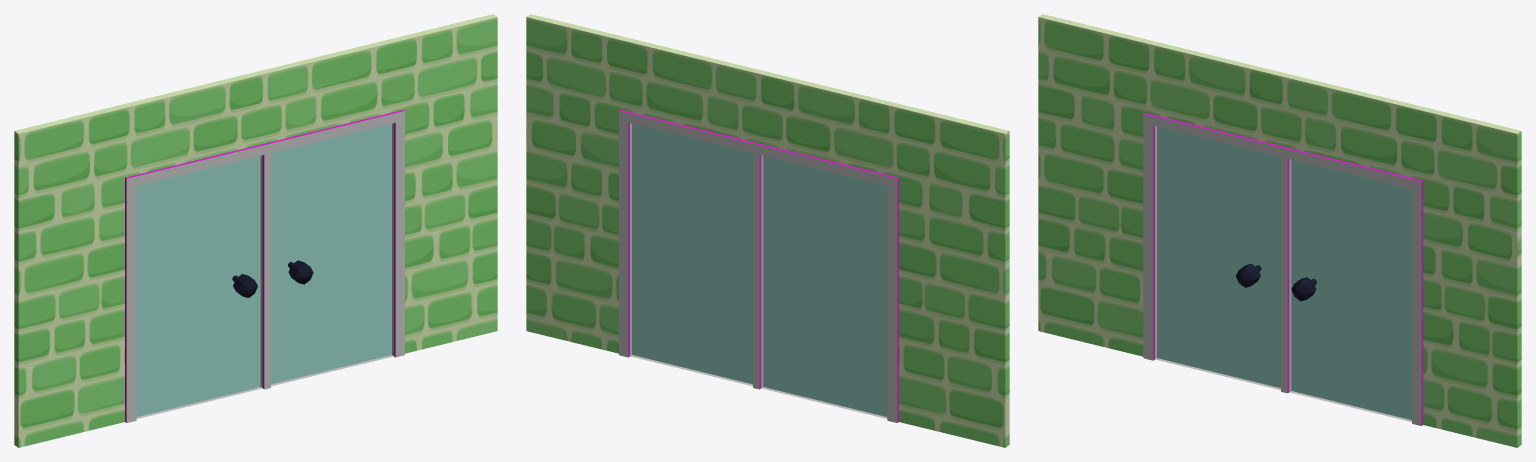
File: PUERTA CAFETERIA.fbx
3 renders of one model, left to right at view 1: azimuth 30°, elevation 25°; view 2: azimuth 150°, elevation 25°; view 3: azimuth 330°, elevation 25°, orthographic.
Parts seen in each view (by area): view 1: PUERTA; view 2: PUERTA; view 3: PUERTA.
Part boxes in pixels (x1,y1,x2,y2): PUERTA: (14,14,497,447); PUERTA: (526,14,1009,447); PUERTA: (1038,14,1521,447).
Size of the model in its own units: 4186 by 2622 by 303.
